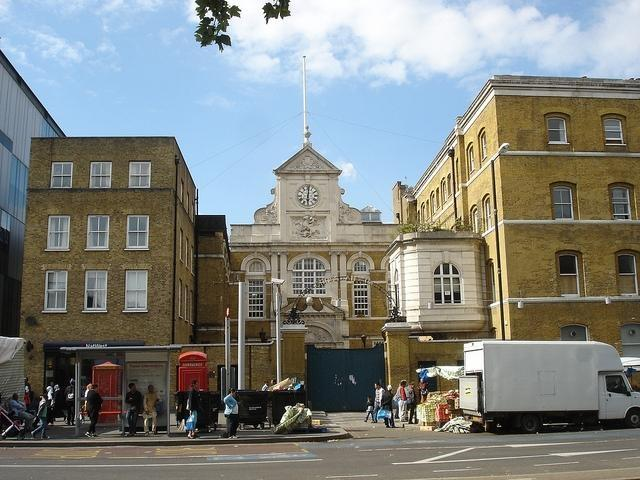truck: (459, 342, 640, 432)
